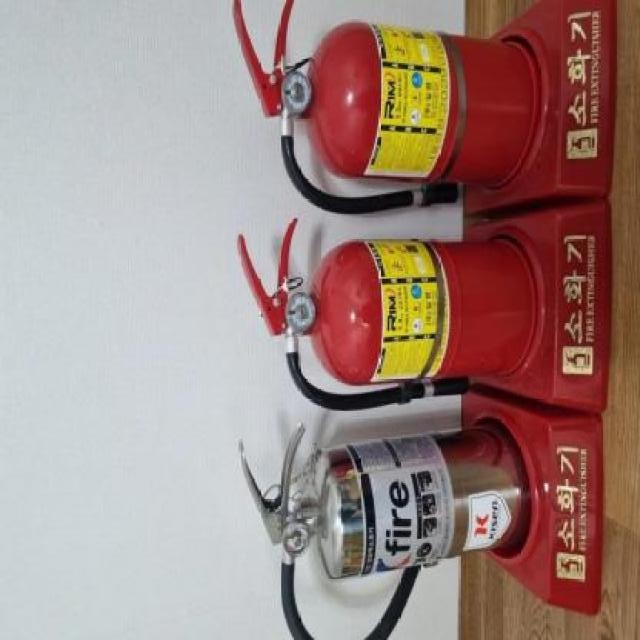fire extinguisher: (232, 0, 540, 217), (238, 422, 529, 640), (236, 217, 536, 411)
